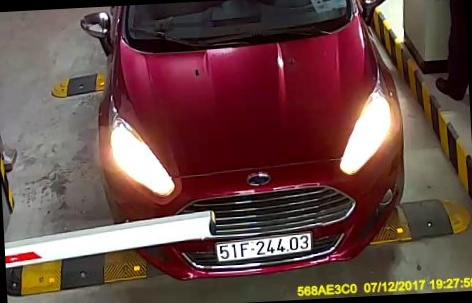plate: (207, 226, 317, 265)
